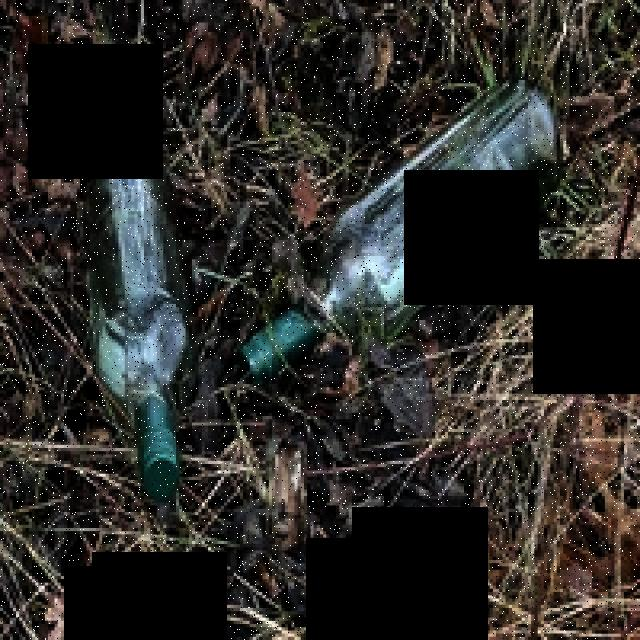glass-bottle: (227, 58, 595, 417), (69, 125, 213, 515)
